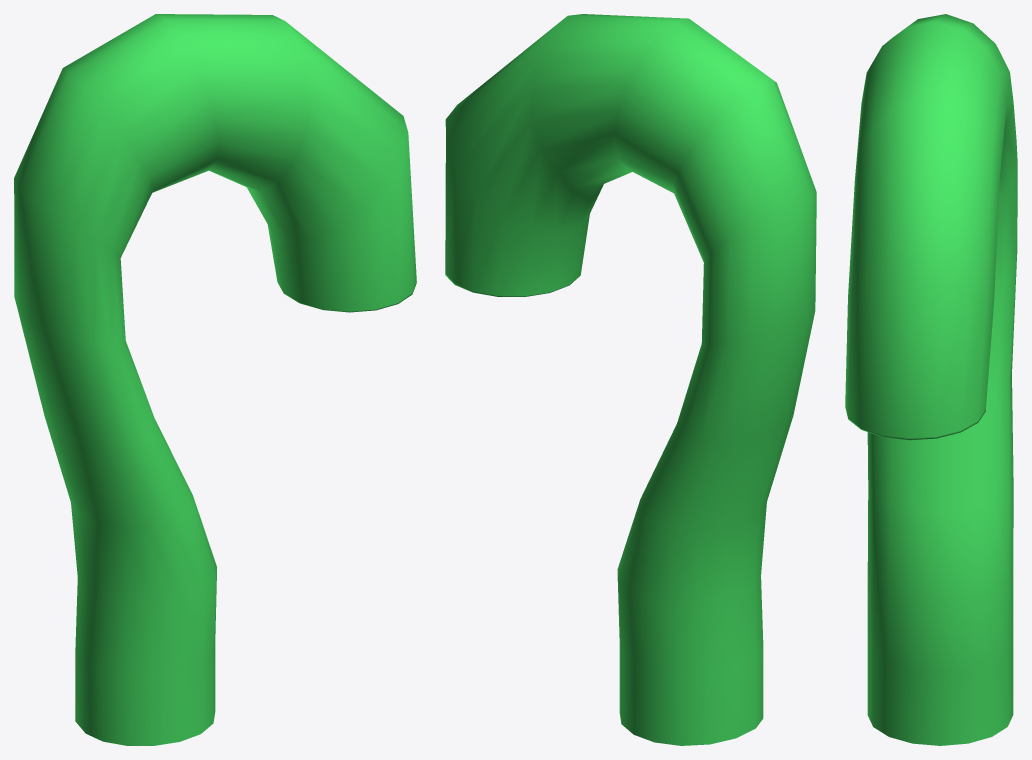
The model's file is berryBush.fbx.
3 renders of one model, left to right at view 1: azimuth 30°, elevation 25°; view 2: azimuth 150°, elevation 25°; view 3: azimuth 270°, elevation 25°, orthographic. The views are drawn at different scales.
Visible parts, largest first — view 1: Cylinder; view 2: Cylinder; view 3: Cylinder.
Boxes of the visible parts, <box> form: Cylinder: <box>14,14,416,745</box>; Cylinder: <box>445,14,816,745</box>; Cylinder: <box>845,14,1017,745</box>.
Size of the model in its own units: 591 by 1065 by 237.
